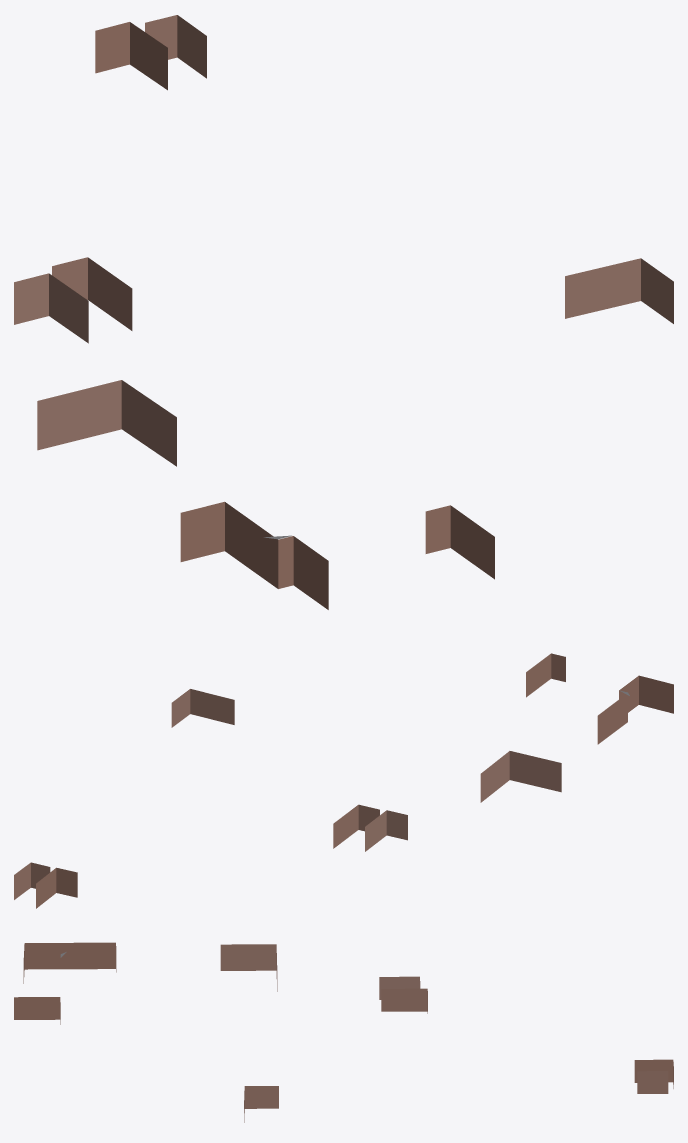
Rendered from c_1631_17822_buildings_residential.glb.
The picture shows the model from 3 angles, top to bottom: view 1: azimuth 30°, elevation 25°; view 2: azimuth 150°, elevation 25°; view 3: azimuth 270°, elevation 25°; orthographic projection. The views are drawn at different scales.
Visible parts, largest first — view 1: geometry_0; view 2: geometry_0; view 3: geometry_0.
Boxes of the visible parts, x1=… form: geometry_0: x1=14, y1=15, x2=673, y2=609; geometry_0: x1=14, y1=653, x2=673, y2=908; geometry_0: x1=14, y1=942, x2=673, y2=1122.
Bounding box in the file's own units: 143 × 11.31 × 249.
